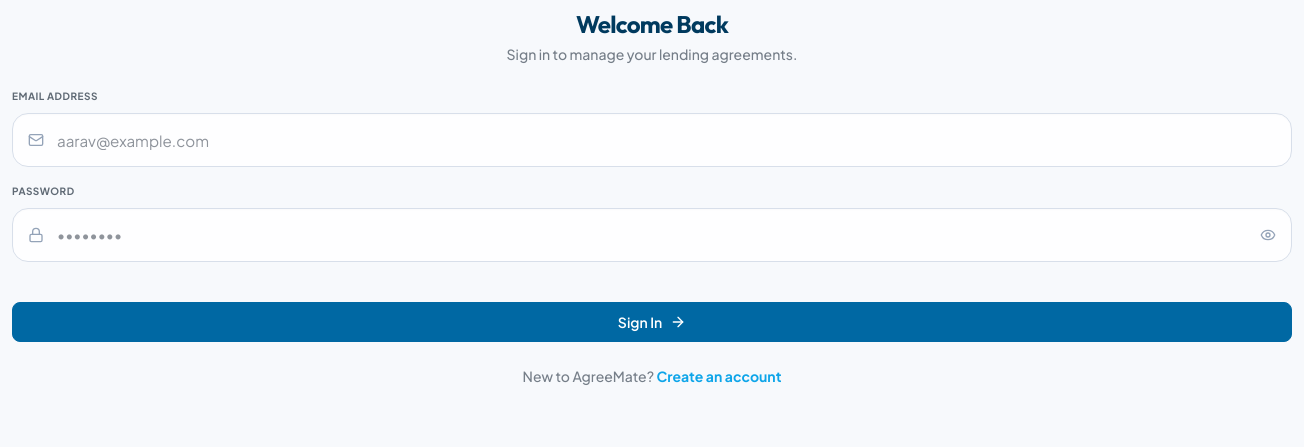
Test: LoginPage › shows validation errors on empty submission
The image size is (1304, 447).
Click the button "Sign In" at (652, 322), box x1=12 y1=302 x2=1292 y2=342
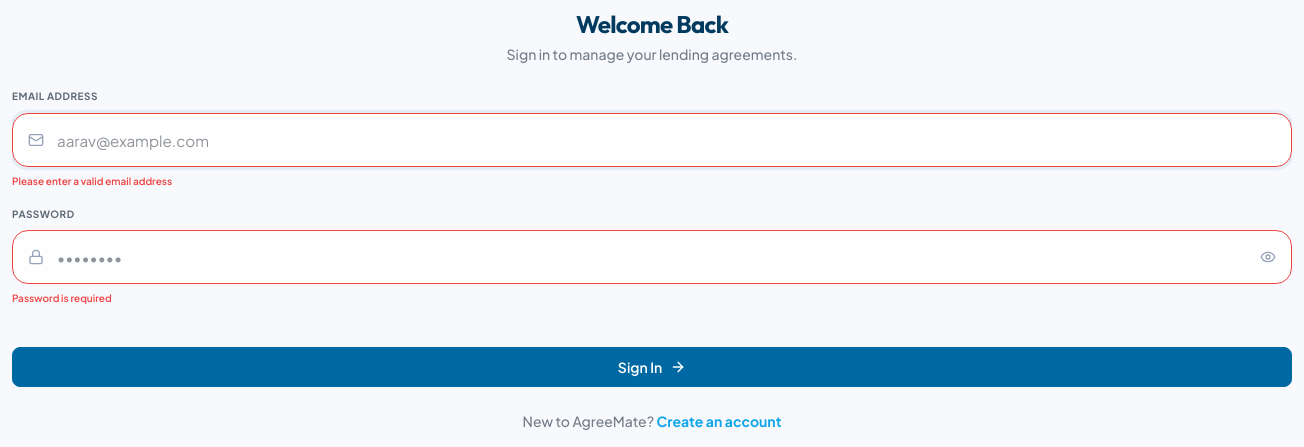
Now the text "Please enter a valid email address" is shown, box x1=12 y1=175 x2=172 y2=187
Now the text "Password is required" is shown, box x1=12 y1=292 x2=112 y2=304
